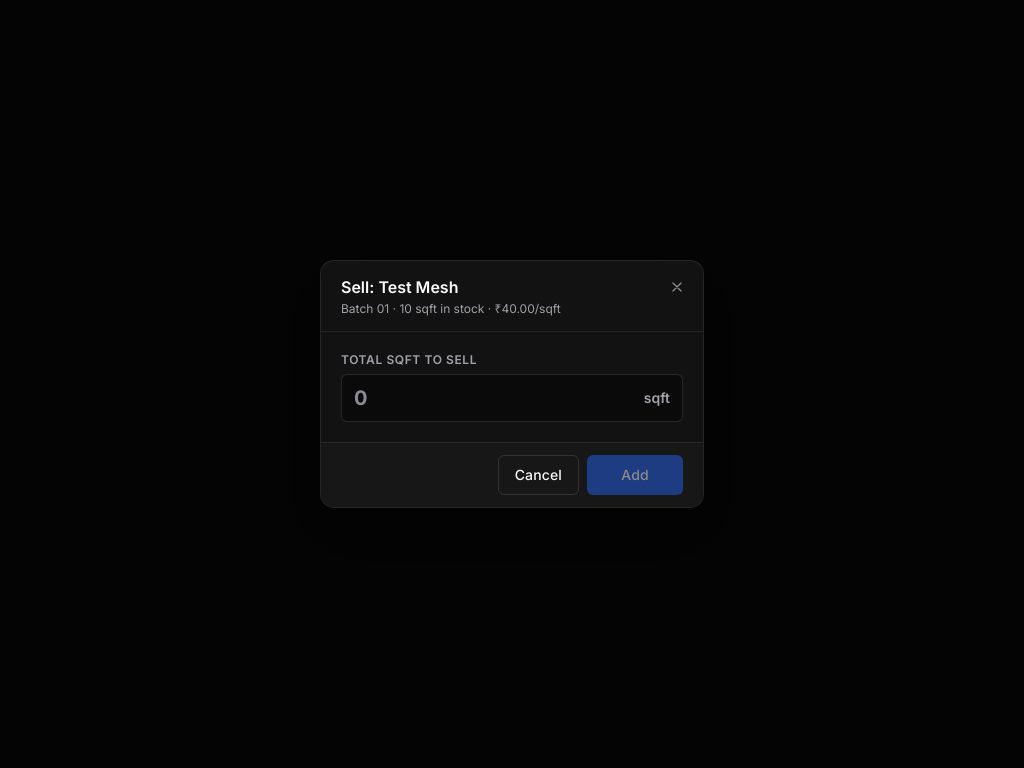
Test: Cut-length items: total-quantity dialog › limits a sale to store stock when the warehouse is enabled
The width and height of the screenshot is (1024, 768).
Check: the text "Batch 01 · 10 sqft in stock · ₹40.00/sqft" is shown, box [341,301,561,317]
Type "25" into the number field labelled "Total sqft to sell" at (495, 398), box [354,375,636,421]
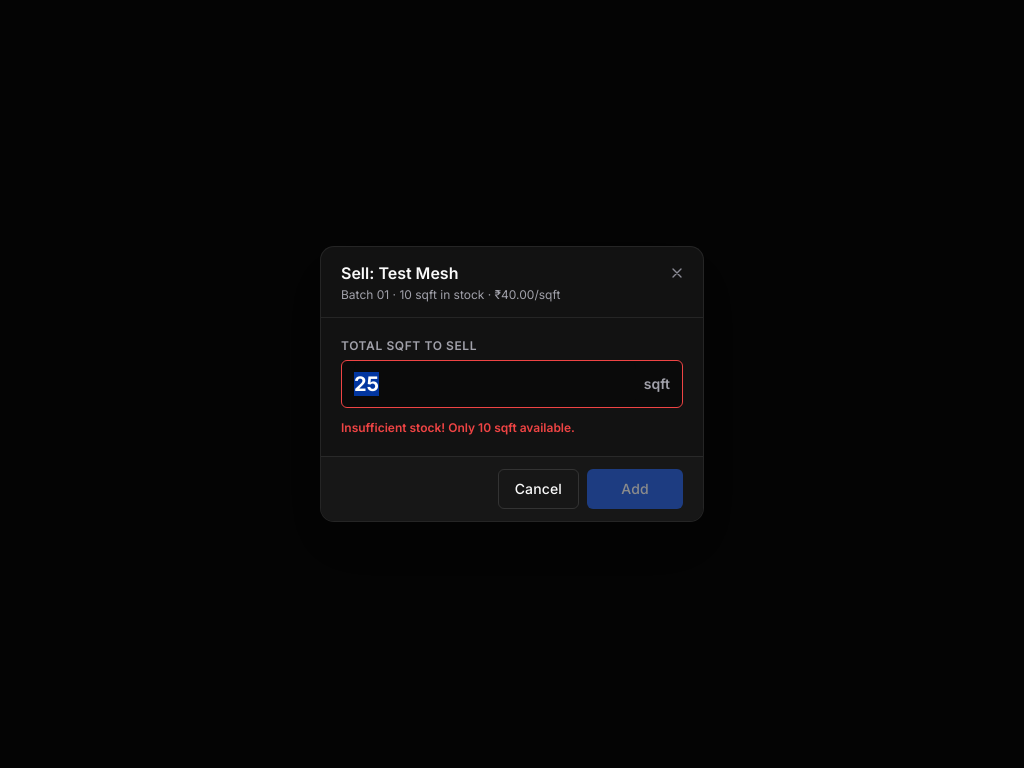
Check: the text "Insufficient stock! Only 10 sqft available." is shown, box [341,420,575,435]
